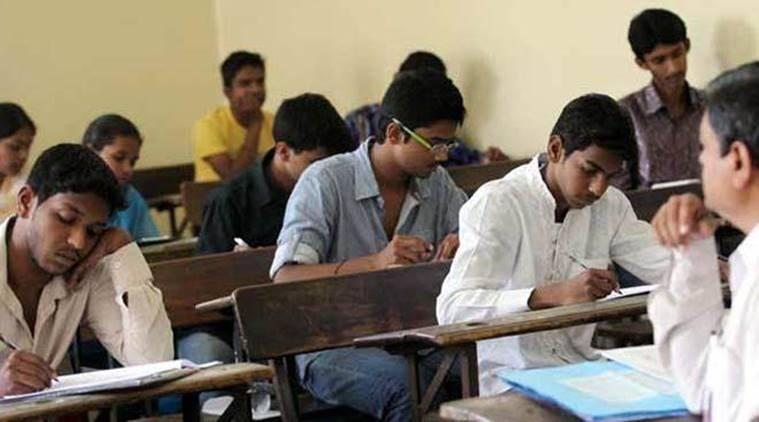student: (437, 93, 653, 322), (1, 124, 153, 396), (319, 75, 477, 290), (599, 8, 716, 158), (179, 41, 286, 180)
